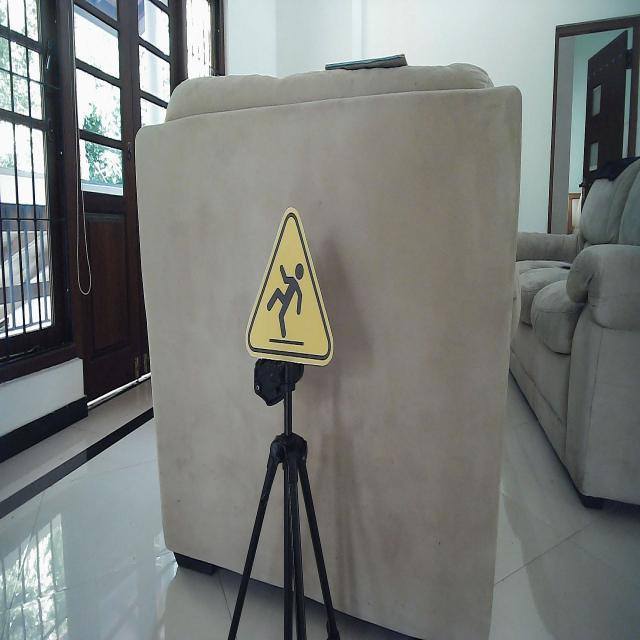slippery_sign: (244, 205, 336, 368)
